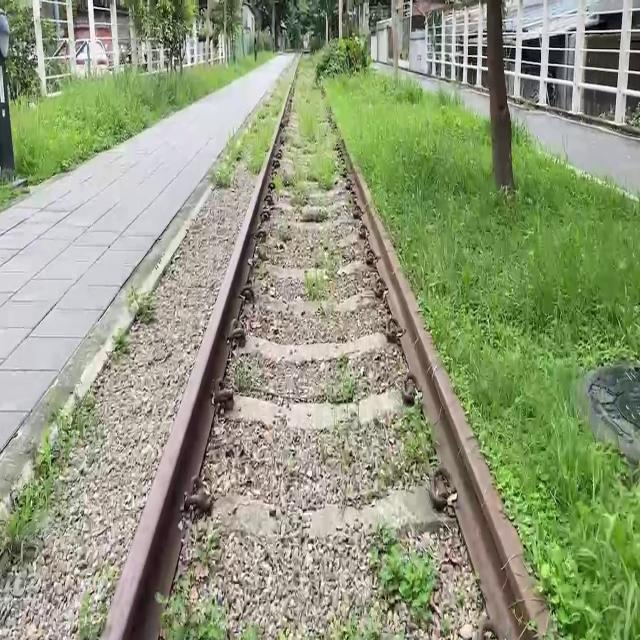rail-track: (160, 61, 489, 639)
